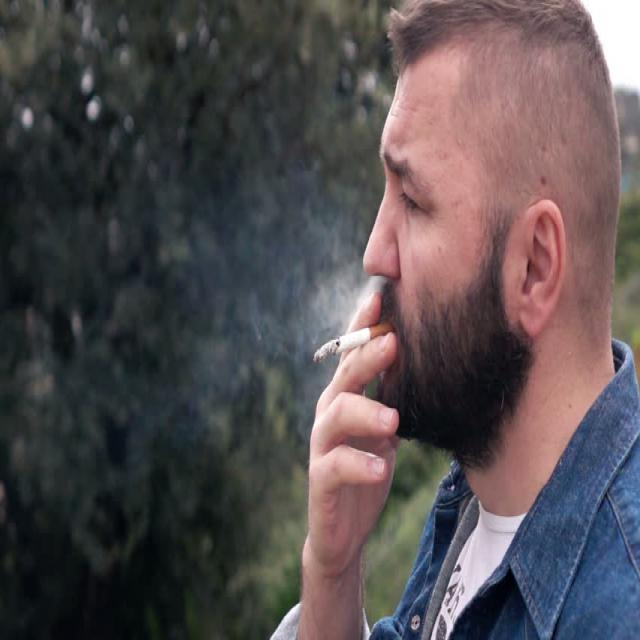smoking: (292, 316, 403, 369)
